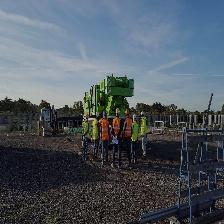Person: (90, 110, 101, 161), (125, 107, 132, 164), (115, 105, 122, 161), (141, 111, 148, 159), (103, 110, 109, 165), (133, 114, 139, 167), (84, 112, 90, 163)
